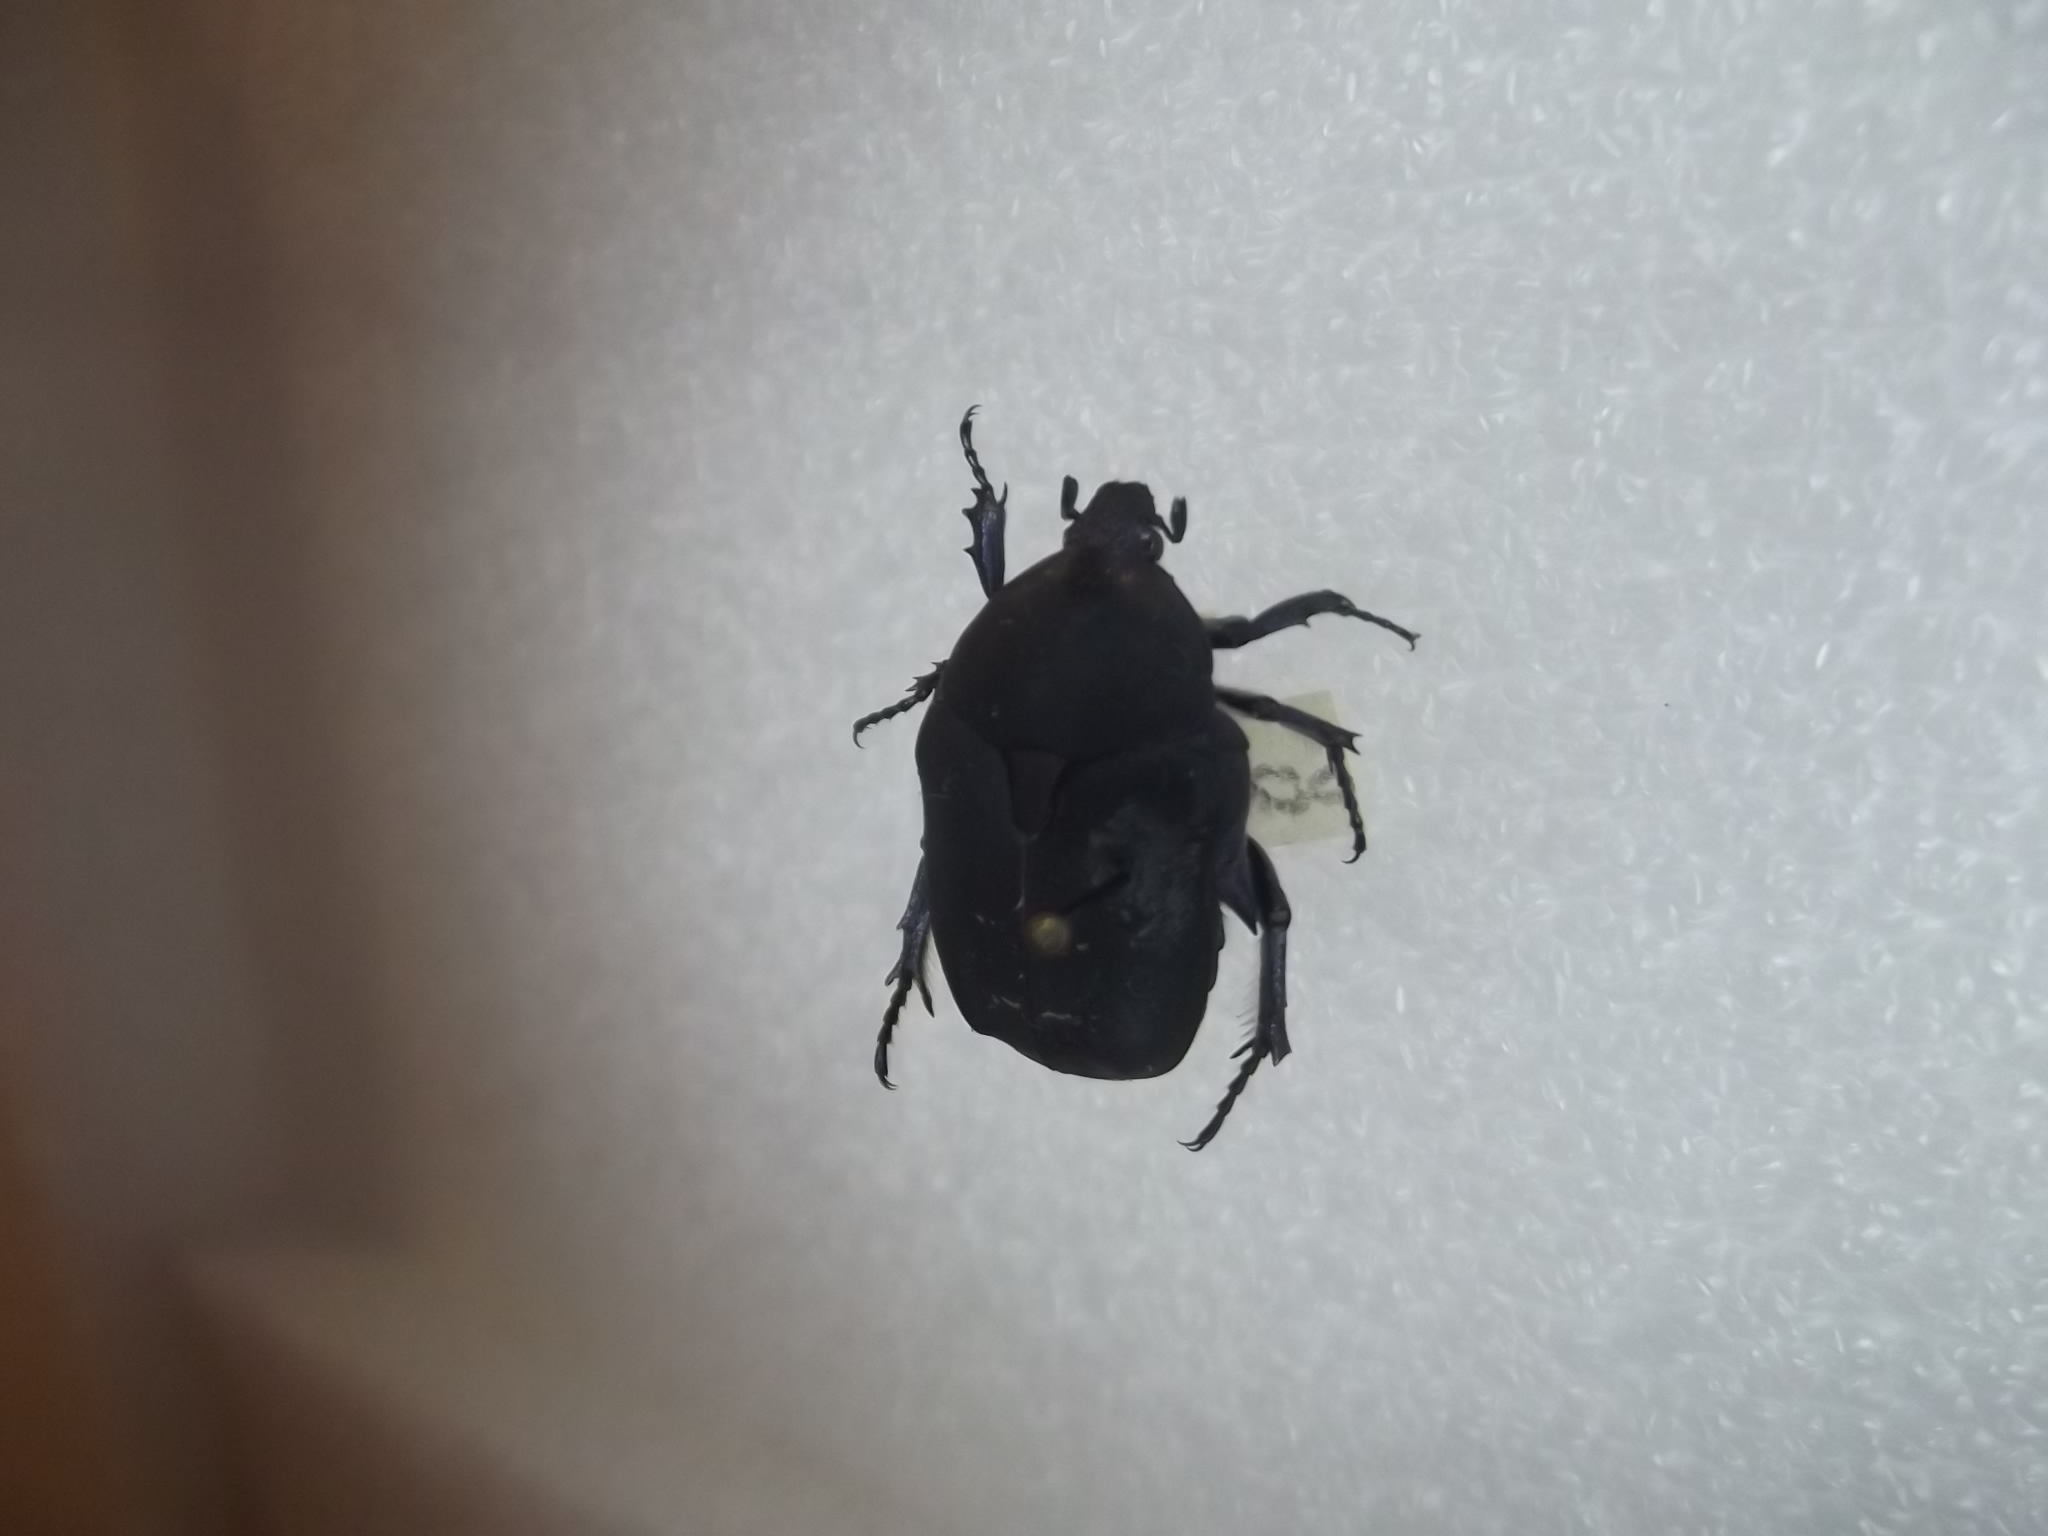Protaetia_ungarica_americana: (832, 394, 1442, 1158)
